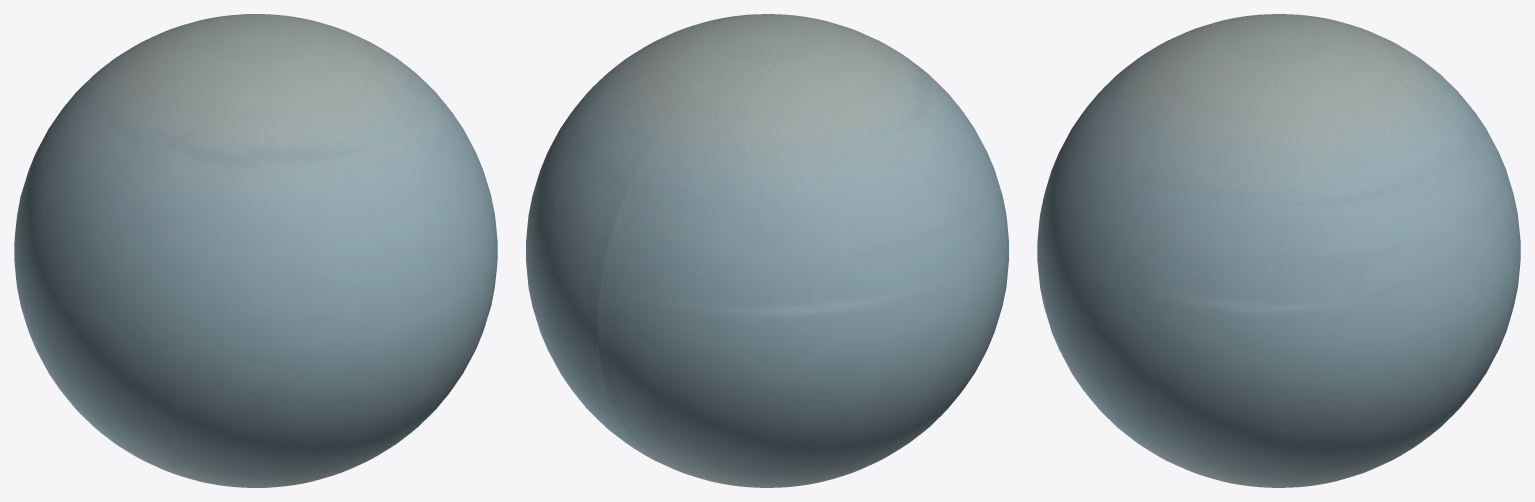
The model's file is uranus.glb.
3 views of the same model, side by side, from view 1: azimuth 30°, elevation 25°; view 2: azimuth 150°, elevation 25°; view 3: azimuth 270°, elevation 25° (orthographic).
Visible parts, largest first — view 1: Uranus; view 2: Uranus; view 3: Uranus.
Part boxes in pixels (<box>): Uranus: <box>14,14,497,487</box>; Uranus: <box>526,14,1008,487</box>; Uranus: <box>1037,14,1520,487</box>.
Bounding box in the file's own units: 1000 × 977 × 1000.
Materials: 1 (1 with a texture image).
